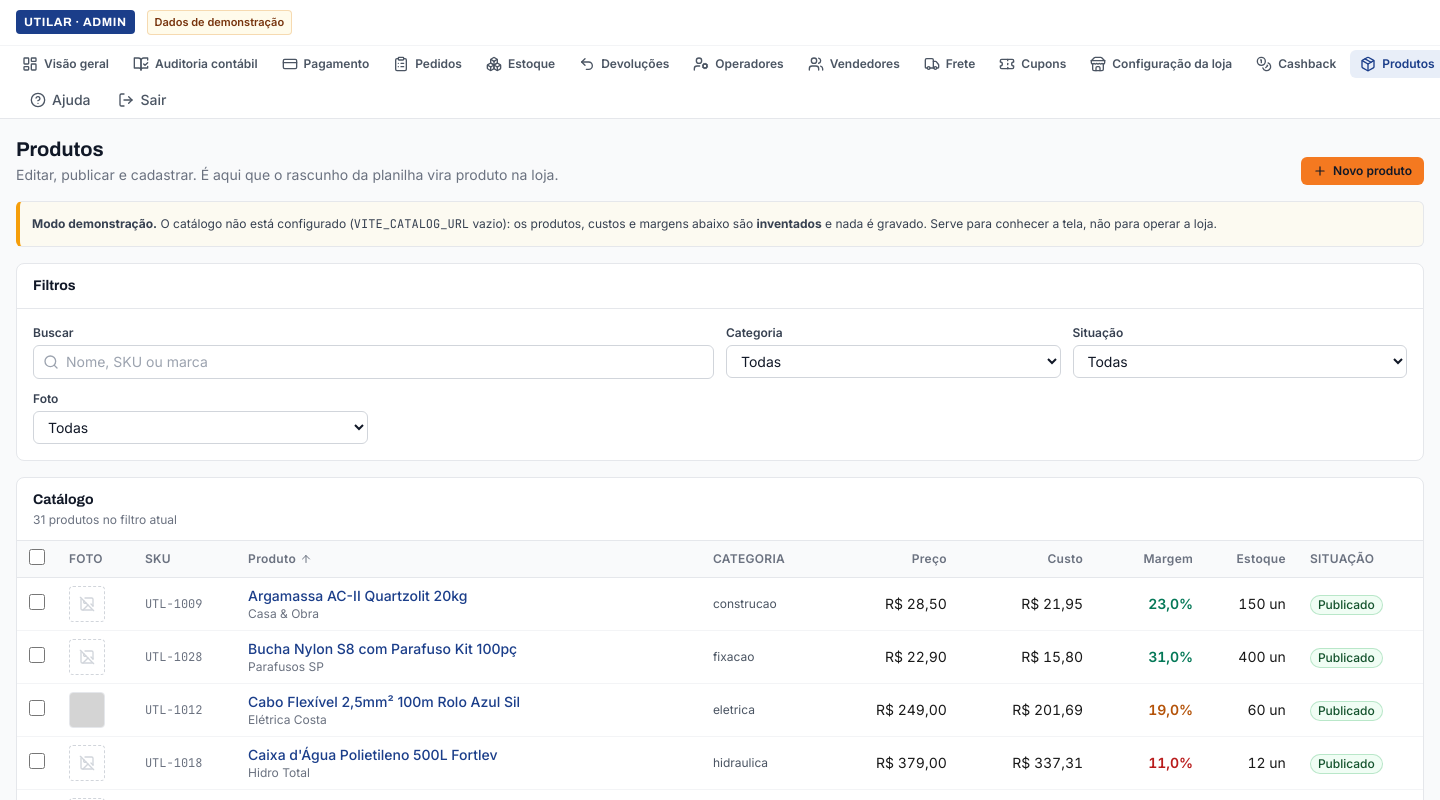
it: Lista — tela › filtra por situação e mostra só rascunhos
Select "Rascunho" in the dropdown labelled "Situação" at (1240, 362), box [1072,345,1407,378]
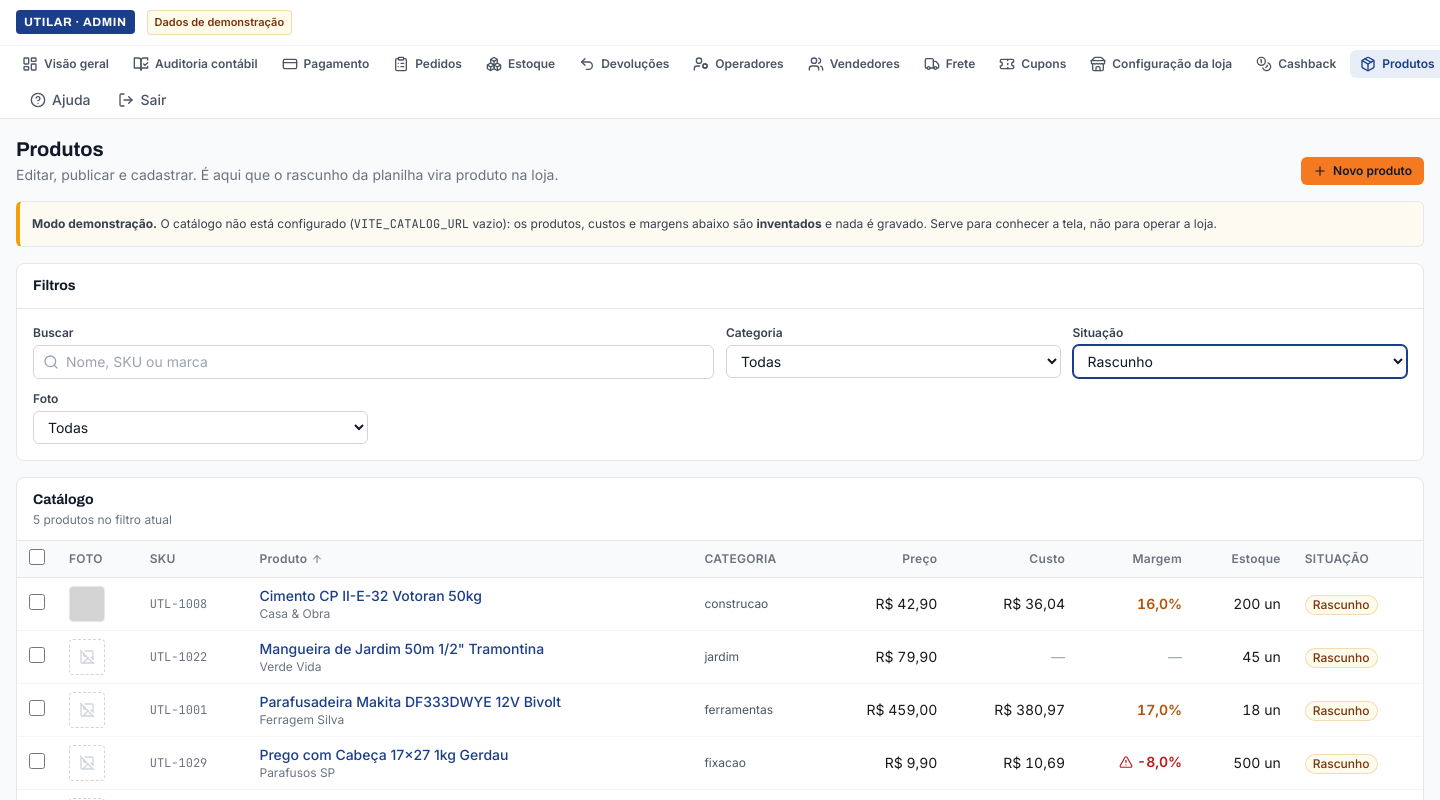
Expected: the text "Rascunho" in the row of "UTL-1008" is shown, [1313,596,1370,612]
Now the text "Publicado" is gone
